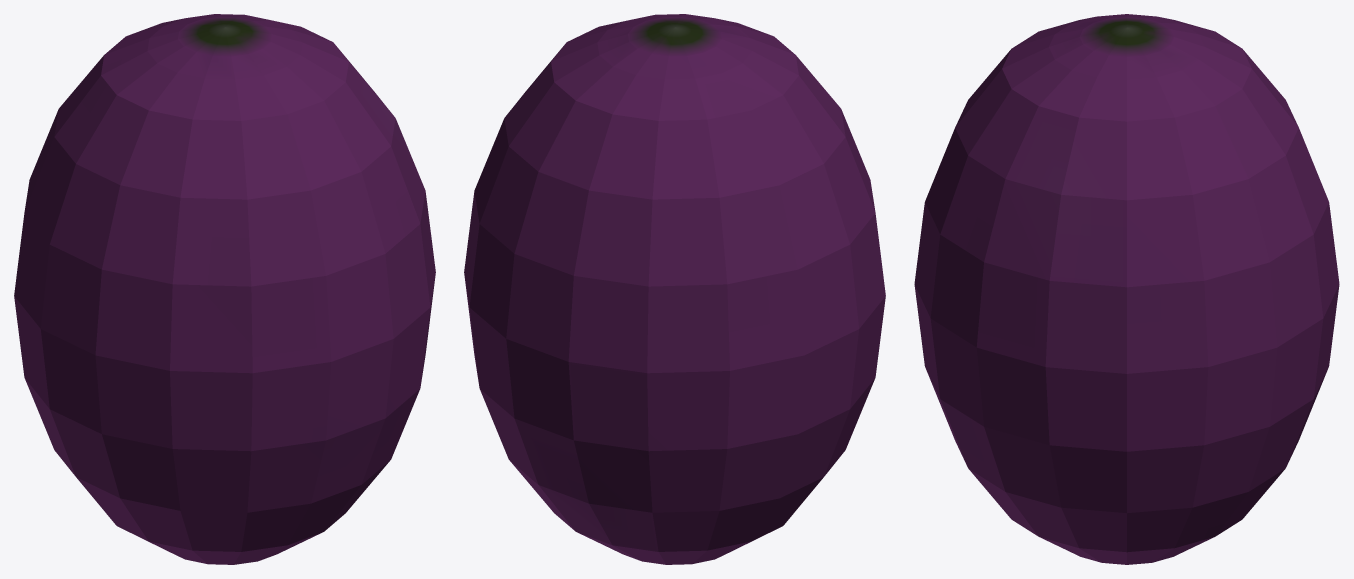
Rendered from grape.fbx.
3 renders of one model, left to right at view 1: azimuth 30°, elevation 25°; view 2: azimuth 150°, elevation 25°; view 3: azimuth 270°, elevation 25°, orthographic.
Parts seen in each view (by area): view 1: Sphere; view 2: Sphere; view 3: Sphere.
Part boxes in pixels (<box>): Sphere: <box>14,14,435,564</box>; Sphere: <box>464,14,885,564</box>; Sphere: <box>914,14,1339,564</box>.
Bounding box in the file's own units: 64.6 × 87.65 × 64.6.
